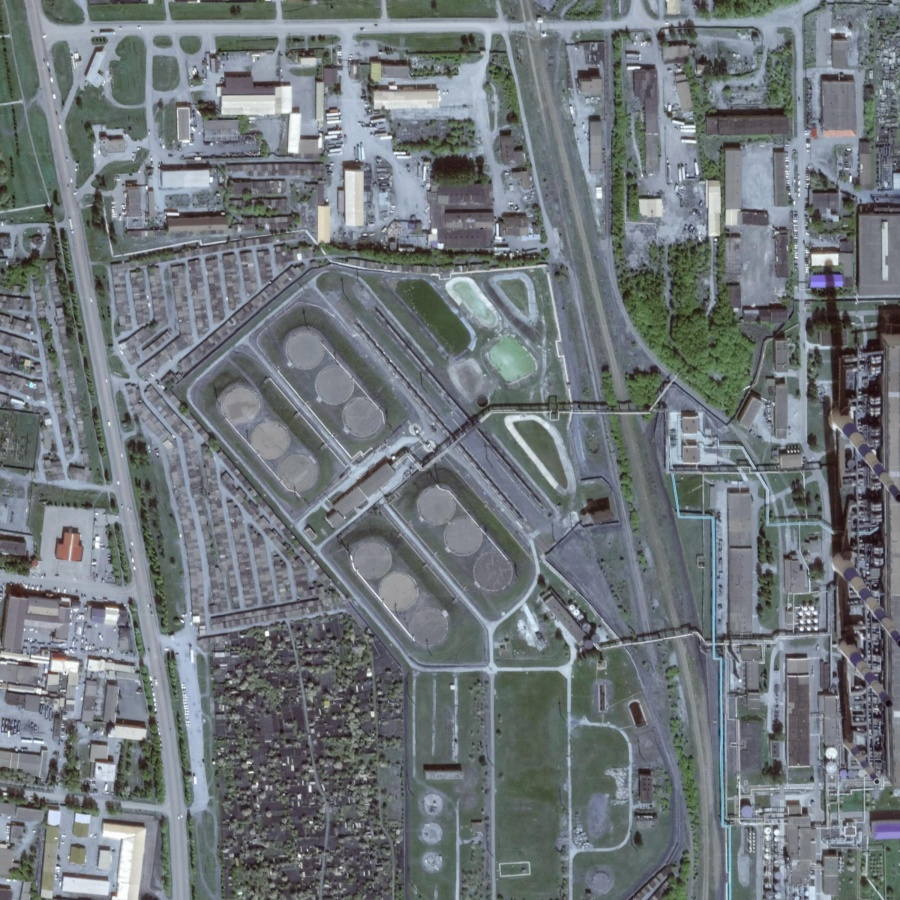PowerPlant: (202, 290, 535, 656)
